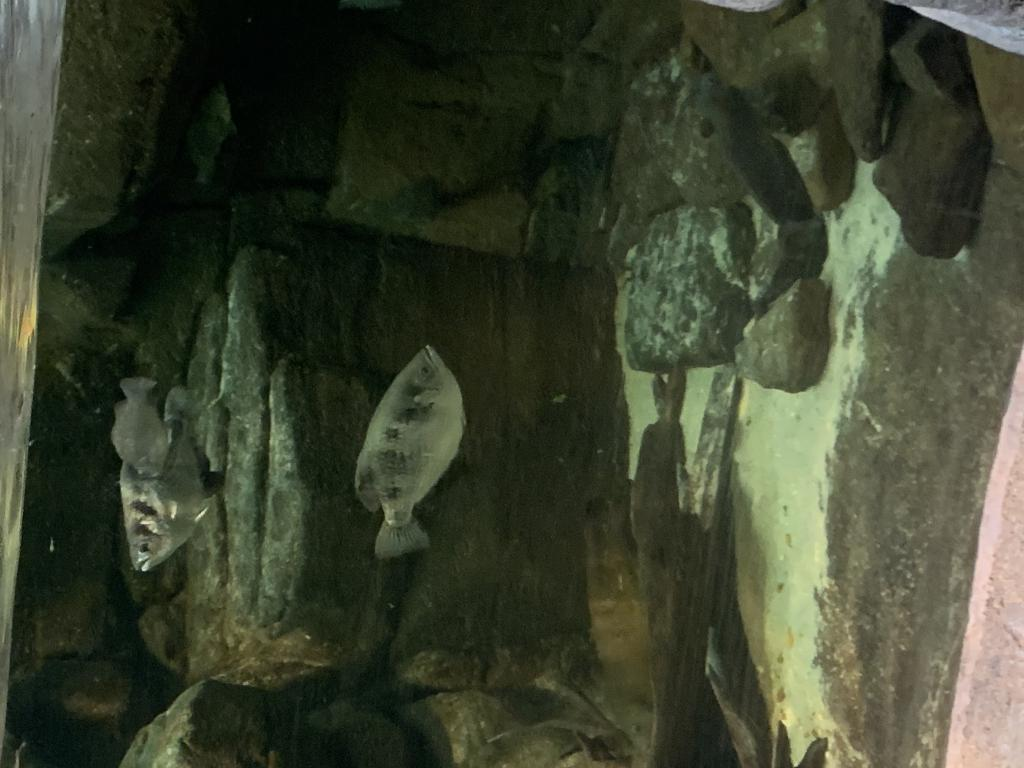fish: (350, 342, 468, 564), (118, 382, 214, 574), (110, 373, 172, 483)
